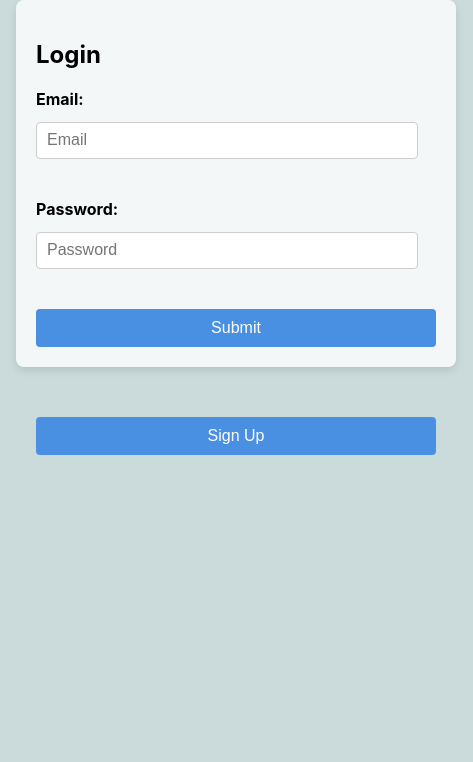
Test case: Pagina Inicial › Should change to Login screen when is the SignUp and then click on Login
Step 1. Click the button with aria-label "Crie sua conta" → (236, 436), box [36,417,436,455]
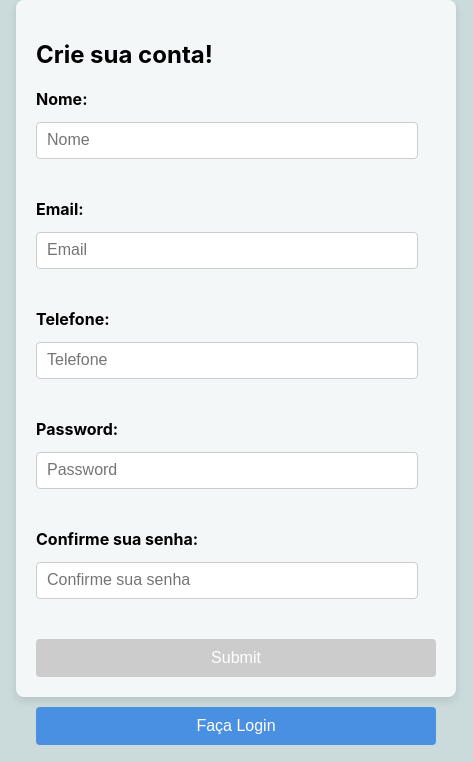
Step 2. Click the button "Faça Login" → (236, 726), box [36,707,436,745]
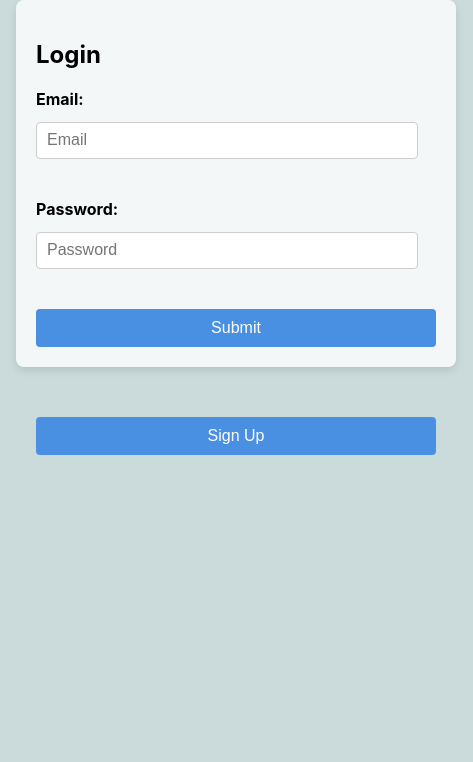
Now the heading "Login" is shown, box [36,40,101,69]
